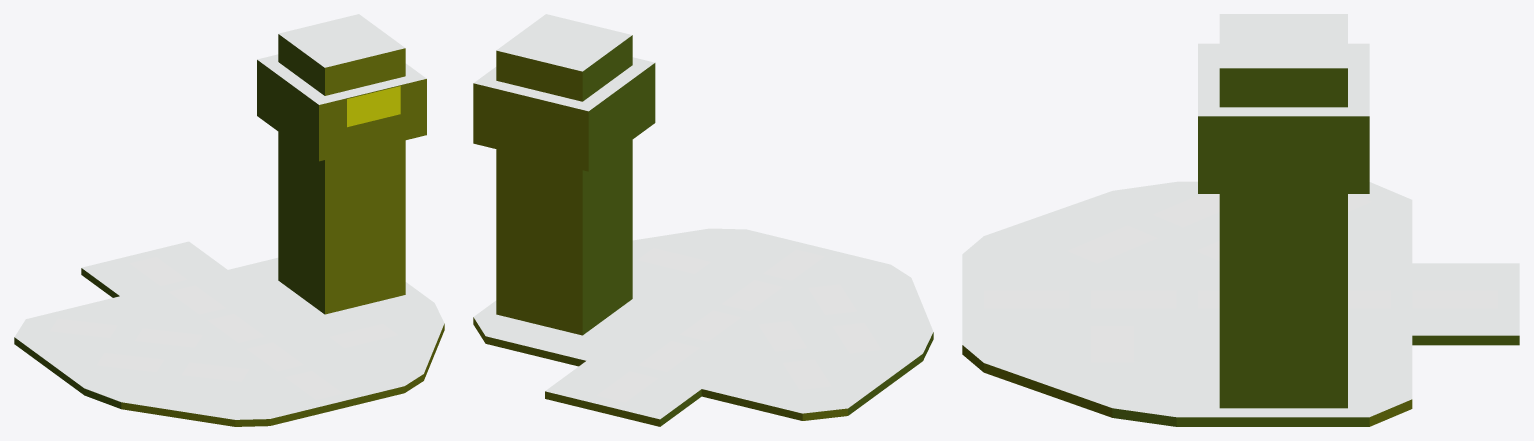
The model's file is Airport.AcidRain.Snow.glb.
3 views of the same model, side by side, from view 1: azimuth 30°, elevation 25°; view 2: azimuth 150°, elevation 25°; view 3: azimuth 270°, elevation 25° (orthographic). The views are drawn at different scales.
Visible parts, largest first — view 1: Airport.AcidRain.Snow; view 2: Airport.AcidRain.Snow; view 3: Airport.AcidRain.Snow.
Boxes of the visible parts, x1,y1,x2,y2 form: Airport.AcidRain.Snow: (14, 14, 444, 426); Airport.AcidRain.Snow: (473, 14, 933, 426); Airport.AcidRain.Snow: (962, 14, 1519, 426).
Size of the model in its own units: 2.6 by 1.8 by 2.6.
Materials: 2 (1 with a texture image).
